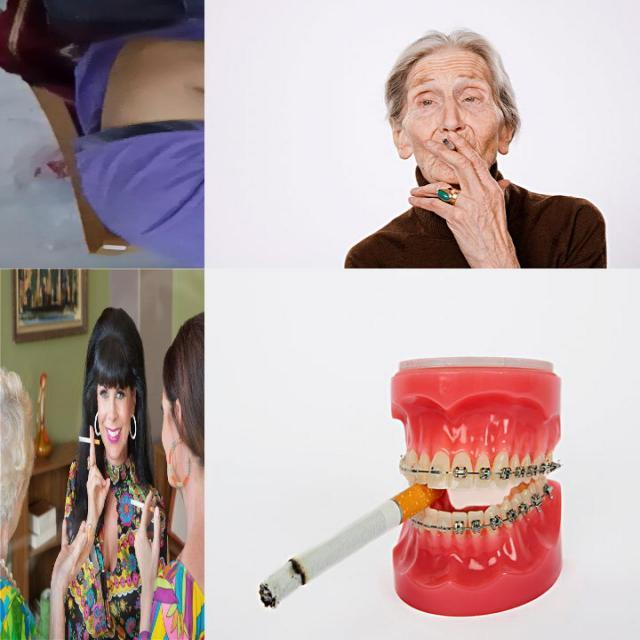smoke: (258, 480, 446, 610), (434, 130, 458, 154), (130, 498, 154, 514), (78, 436, 100, 446)
